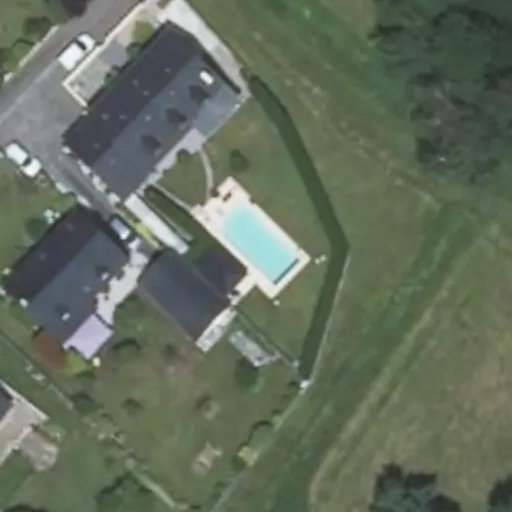pool: (213, 225, 298, 257)
